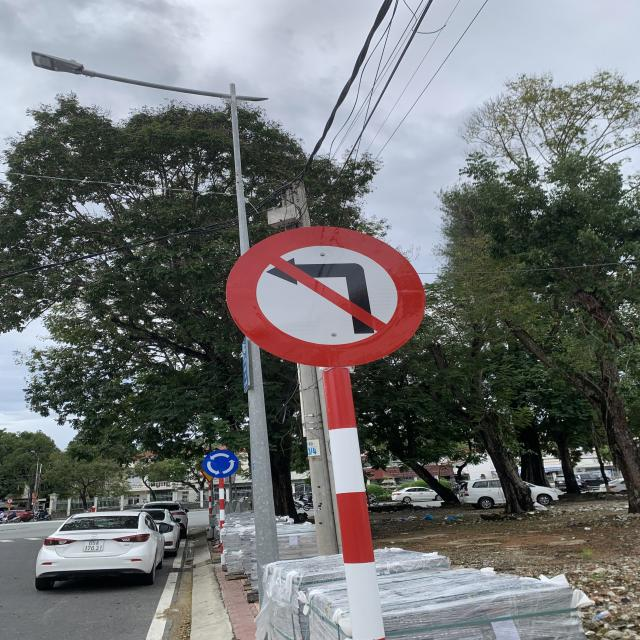Cam_Re_Trai: (227, 226, 425, 366)
